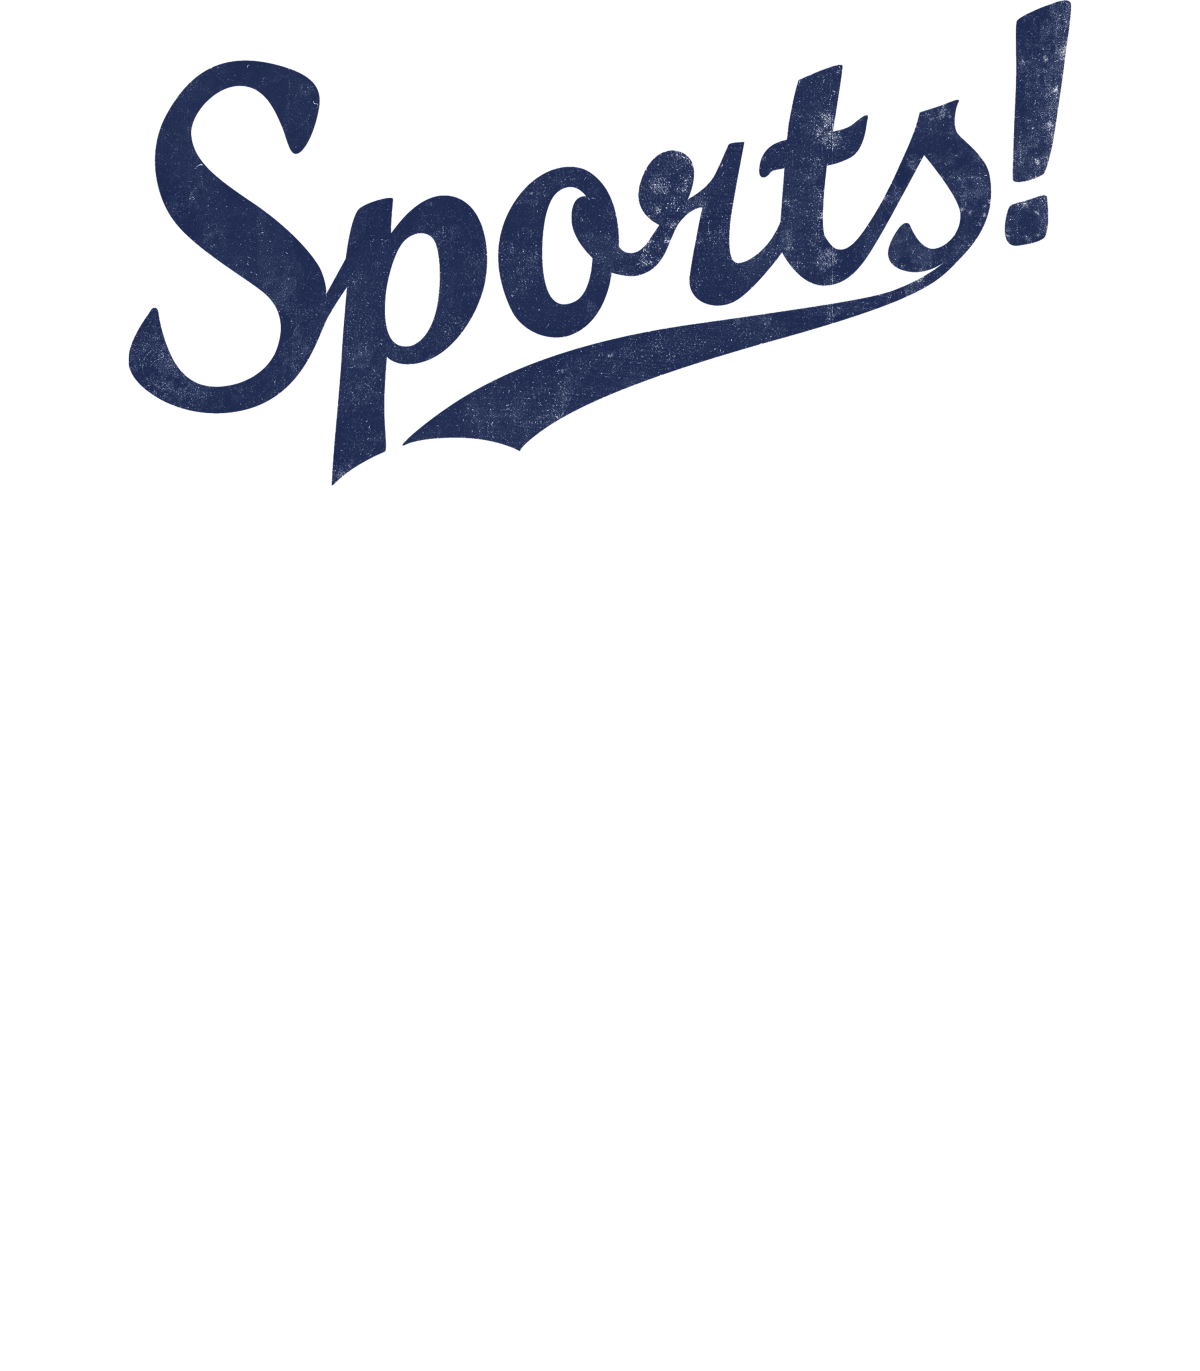design: (108, 1, 1085, 494)
